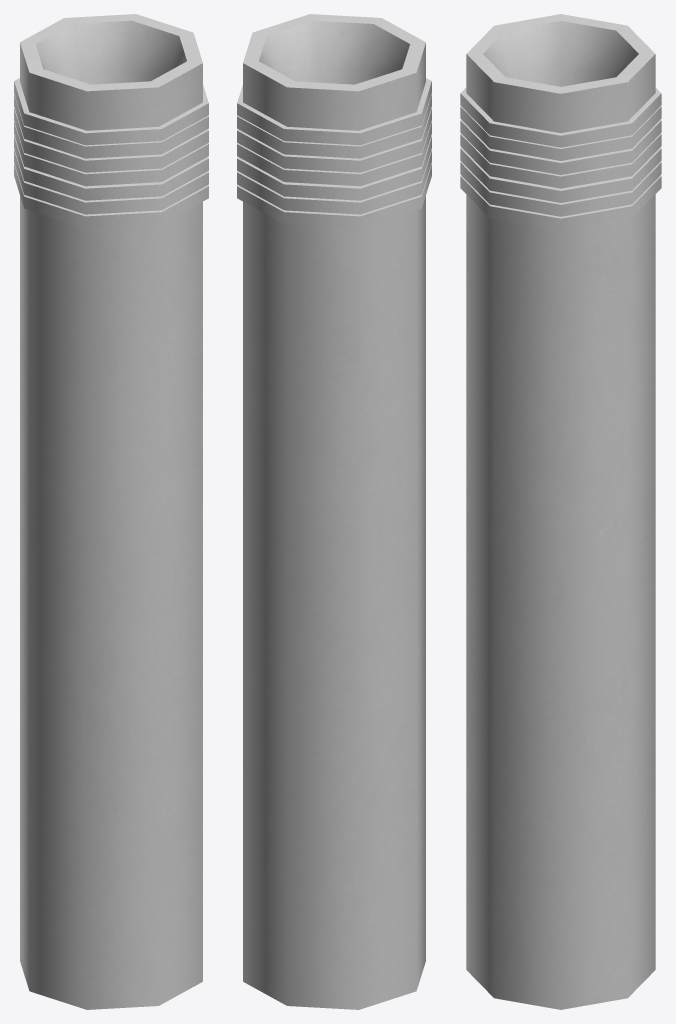
File: SM_赶酸仪上消解罐.FBX
The picture shows the model from 3 angles, left to right: view 1: azimuth 30°, elevation 25°; view 2: azimuth 150°, elevation 25°; view 3: azimuth 270°, elevation 25°; orthographic projection.
Parts seen in each view (by area): view 1: SM_赶酸仪上消解罐; view 2: SM_赶酸仪上消解罐; view 3: SM_赶酸仪上消解罐.
Part boxes in pixels (left/top/right/bottom): SM_赶酸仪上消解罐: left=14, top=14, right=208, bottom=1009; SM_赶酸仪上消解罐: left=237, top=14, right=431, bottom=1009; SM_赶酸仪上消解罐: left=460, top=14, right=661, bottom=1009.
Bounding box in the file's own units: 24.27 × 122 × 24.27.
